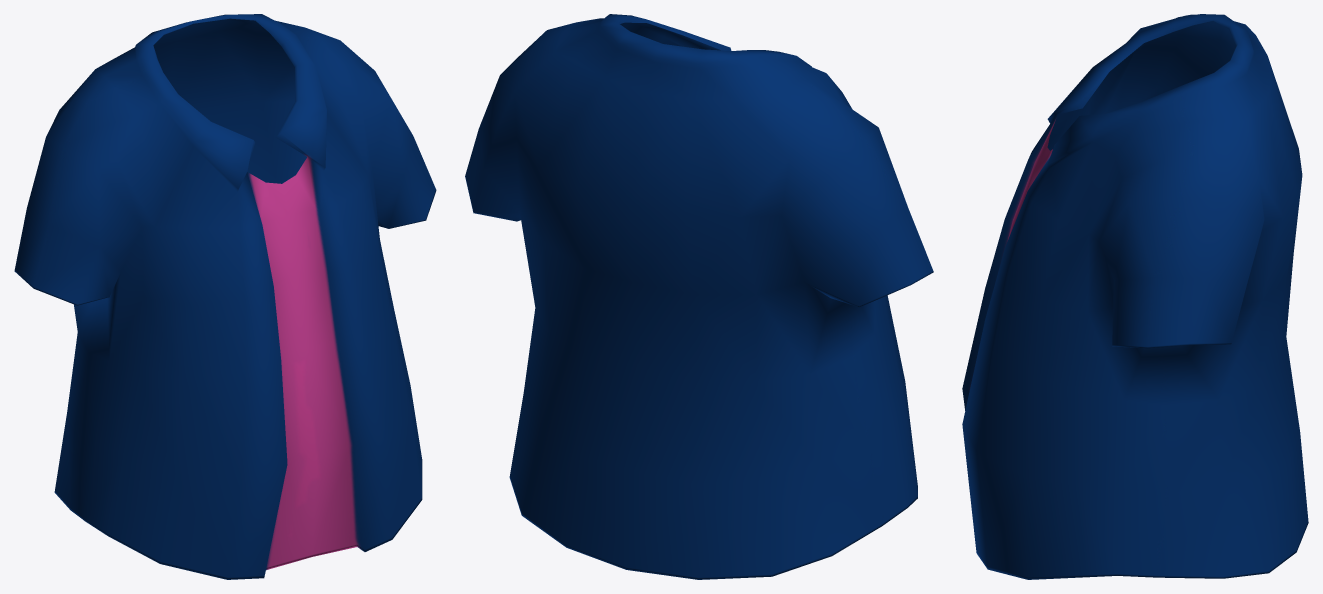
File: AF_M_Jacket_09.FBX
3 renders of one model, left to right at view 1: azimuth 30°, elevation 25°; view 2: azimuth 150°, elevation 25°; view 3: azimuth 270°, elevation 25°, orthographic. The views are drawn at different scales.
Parts seen in each view (by area): view 1: AF_M_Jacket_09; view 2: AF_M_Jacket_09; view 3: AF_M_Jacket_09.
Part boxes in pixels (x1,y1,x2,y2): AF_M_Jacket_09: (14,14,436,579); AF_M_Jacket_09: (465,14,933,579); AF_M_Jacket_09: (962,14,1308,579).
Size of the model in its own units: 464 by 501 by 324.
Materials: 1 (1 with a texture image).
